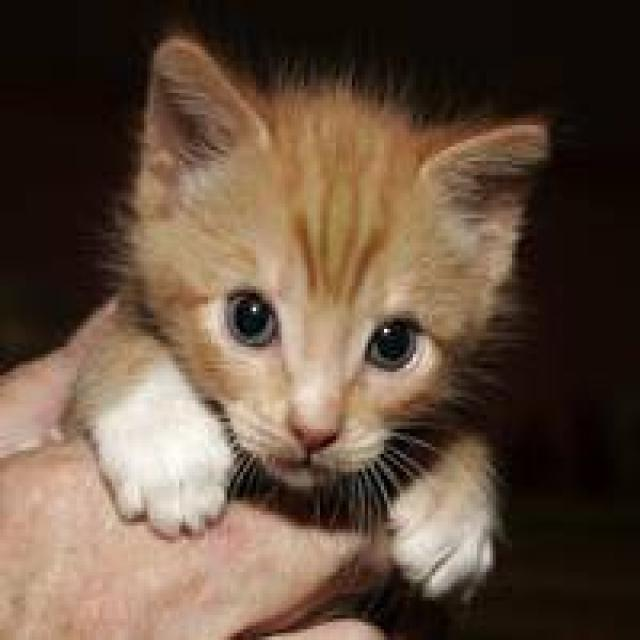Cat: (111, 32, 559, 531)
